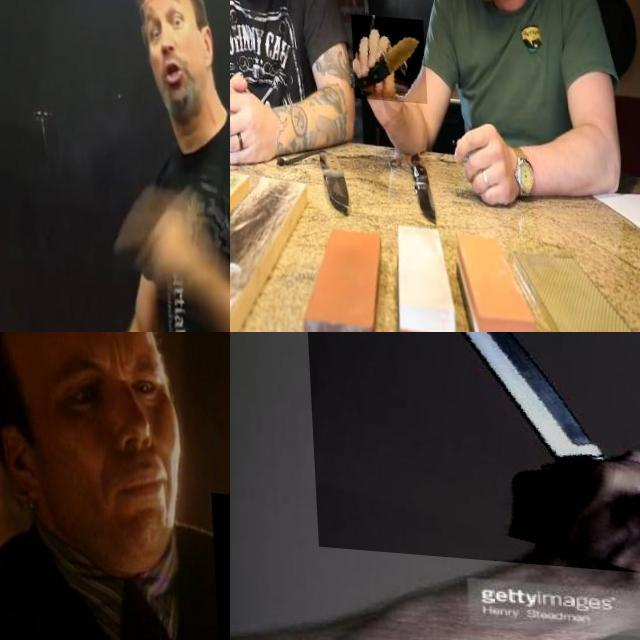-: (300, 332, 640, 574), (348, 9, 423, 98)
